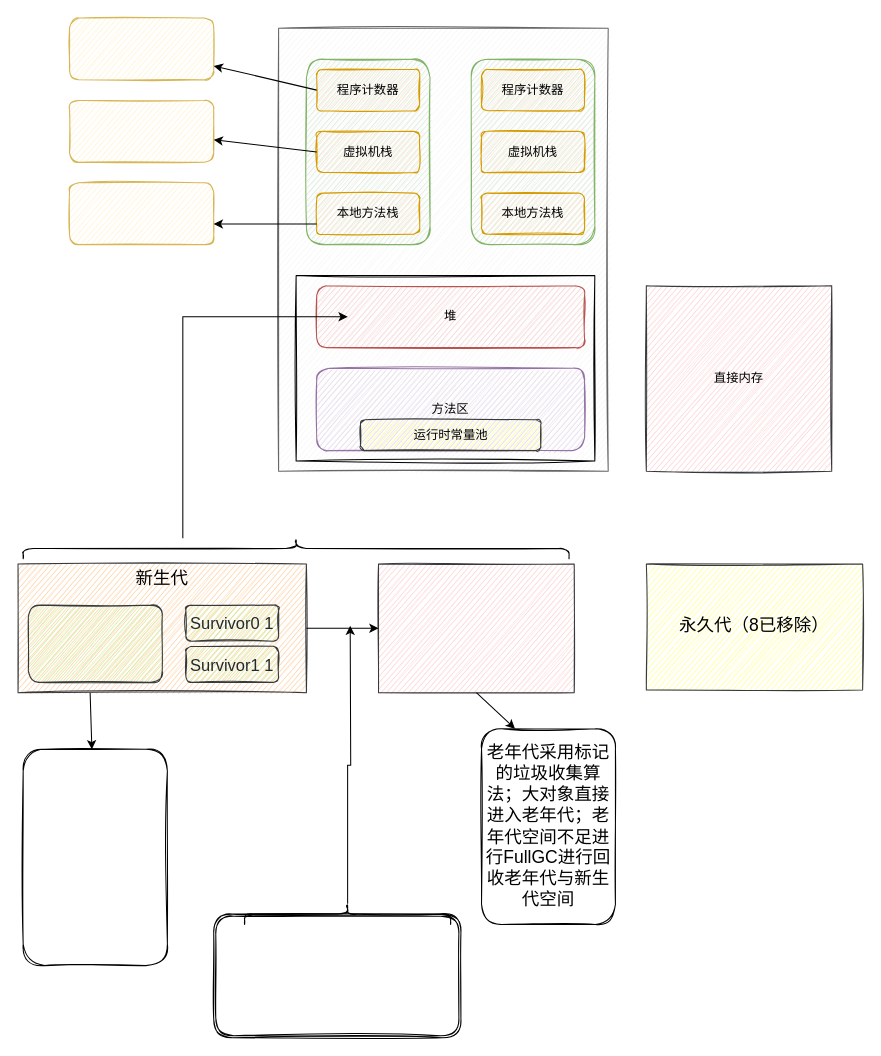
Some shapes in this 881 by 1056 pixel diagram are drawn without their labels. Each missing label, with the box of its shape:
endn 8: (27, 604, 162, 682)
为本地方法提供服务: (68, 182, 214, 245)
存储线程方法的局部变量、操作数栈、常量池: (68, 99, 214, 162)
新生代进行MinorGC存活年龄超多阈值的或 Survivor相同年龄对象总和超过一半空间的，大于等于该年龄的对象；进入老年代: (213, 913, 461, 1038)
新生代采用复制的垃圾收集算法，默认使用的是ParNew垃圾收集器；MinorGC进行回收；正常大多数对象创建直接进入endn区: (22, 748, 167, 966)
老年代: (377, 563, 574, 693)
记录当前线程执行的位置指令: (68, 17, 214, 80)
